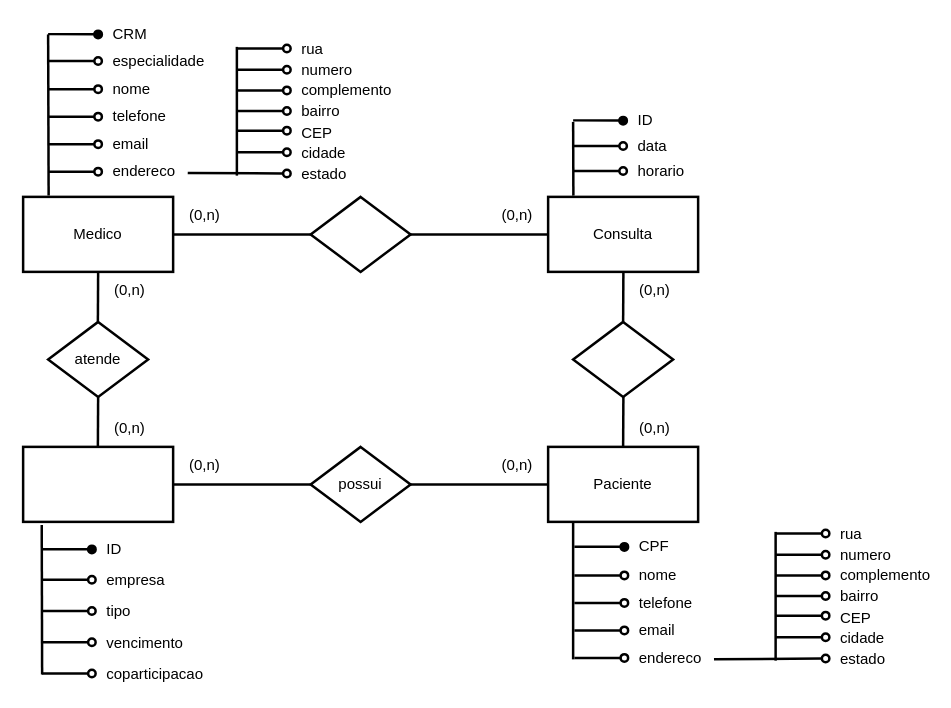
Some shapes in this 951 by 708 pixel diagram are drawn without their labels. Here are the shapes that lost their labels. From the top down, the centre of each, then its label:
At [360,233]: "realiza".
At [622,359]: "marca".
At [97,483]: "Convenio".
